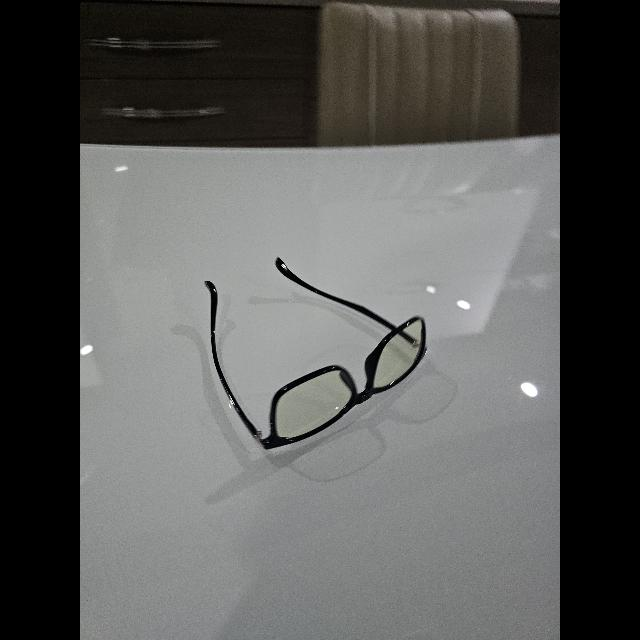glasses: (206, 257, 427, 448)
